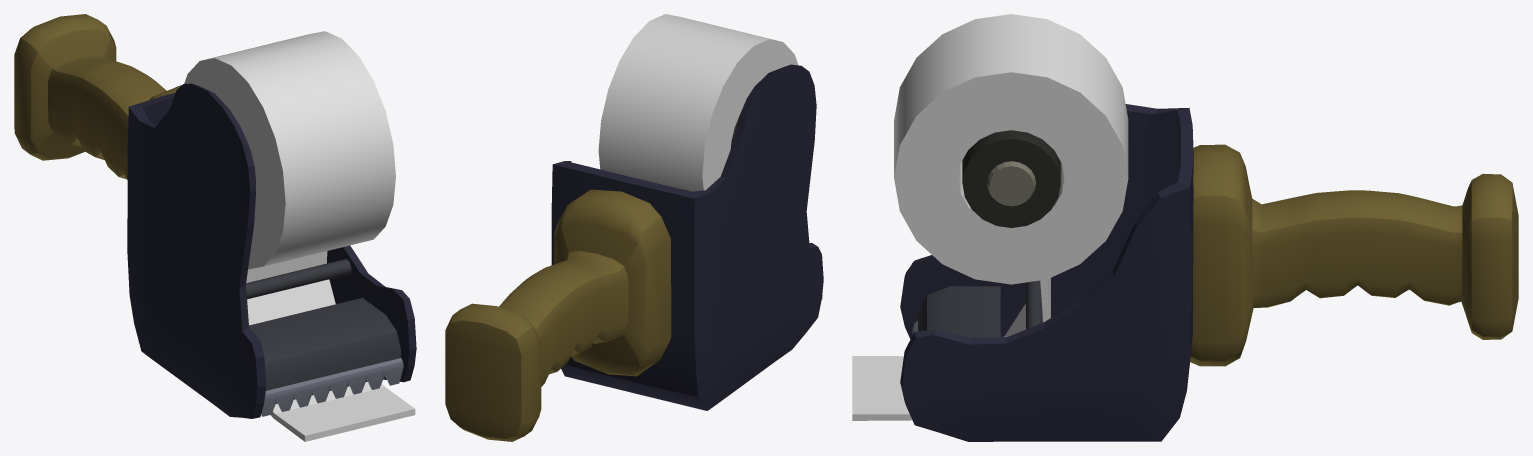
Rendered from TapeRoller.fbx.
3 renders of one model, left to right at view 1: azimuth 30°, elevation 25°; view 2: azimuth 150°, elevation 25°; view 3: azimuth 270°, elevation 25°, orthographic. The views are drawn at different scales.
Visible parts, largest first — view 1: merged_tape_holder, tape_roll, tape_end; view 2: merged_tape_holder, tape_roll; view 3: merged_tape_holder, tape_roll, tape_end.
Boxes of the visible parts, box(x1,y1,x2,y2) form: merged_tape_holder: box(14, 14, 416, 418); tape_roll: box(184, 31, 395, 269); tape_end: box(246, 251, 415, 441); merged_tape_holder: box(445, 64, 823, 441); tape_roll: box(598, 14, 798, 191); merged_tape_holder: box(900, 104, 1518, 441); tape_roll: box(894, 14, 1128, 284); tape_end: box(852, 278, 1050, 420).
Size of the model in its own units: 3.52 by 6.92 by 11.66.
